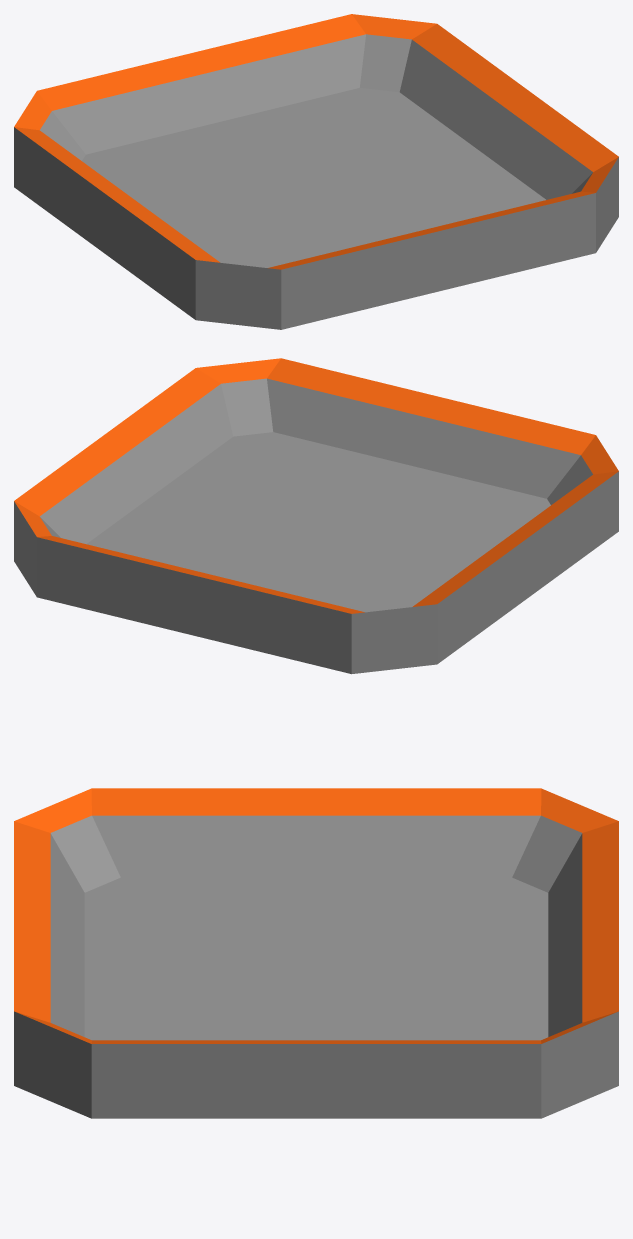
The model's file is button_push_player_01.FBX.
The picture shows the model from 3 angles, top to bottom: view 1: azimuth 30°, elevation 25°; view 2: azimuth 150°, elevation 25°; view 3: azimuth 270°, elevation 25°; orthographic projection. The views are drawn at different scales.
Parts seen in each view (by area): view 1: button_push_player_01; view 2: button_push_player_01; view 3: button_push_player_01.
Part boxes in pixels (box(x1,y1,x2,y2)): button_push_player_01: box(14, 14, 618, 329); button_push_player_01: box(14, 358, 618, 674); button_push_player_01: box(14, 788, 618, 1118).
Bounding box in the file's own units: 73 × 24.02 × 73.
